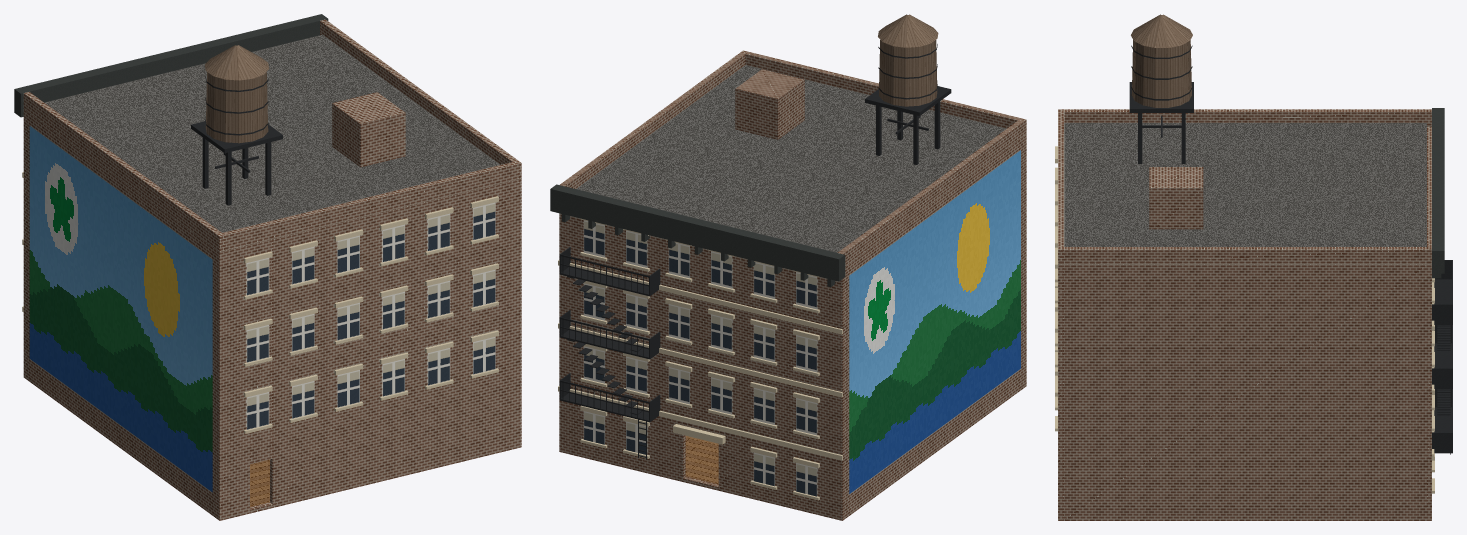
File: walkup_brown_mural_verda.glb
The picture shows the model from 3 angles, left to right: view 1: azimuth 30°, elevation 25°; view 2: azimuth 150°, elevation 25°; view 3: azimuth 270°, elevation 25°; orthographic projection. The views are drawn at different scales.
Parts seen in each view (by area): view 1: walkup_brown_mural_verda; view 2: walkup_brown_mural_verda; view 3: walkup_brown_mural_verda.
Part boxes in pixels (x1=…): walkup_brown_mural_verda: x1=14, y1=14, x2=521, y2=520; walkup_brown_mural_verda: x1=550, y1=14, x2=1026, y2=520; walkup_brown_mural_verda: x1=1055, y1=14, x2=1452, y2=520.
Bounding box in the file's own units: 16.3 × 21.2 × 19.14.
11 materials, 11 textured.
